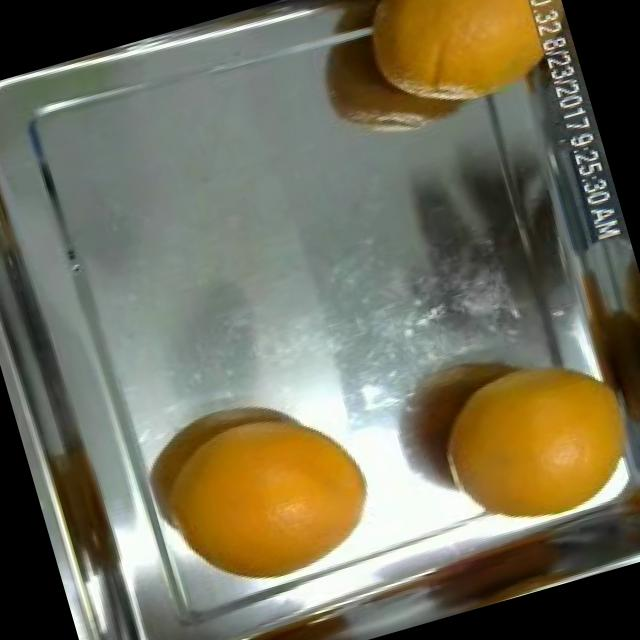Fruit: (403, 314, 640, 546), (324, 0, 575, 135)
